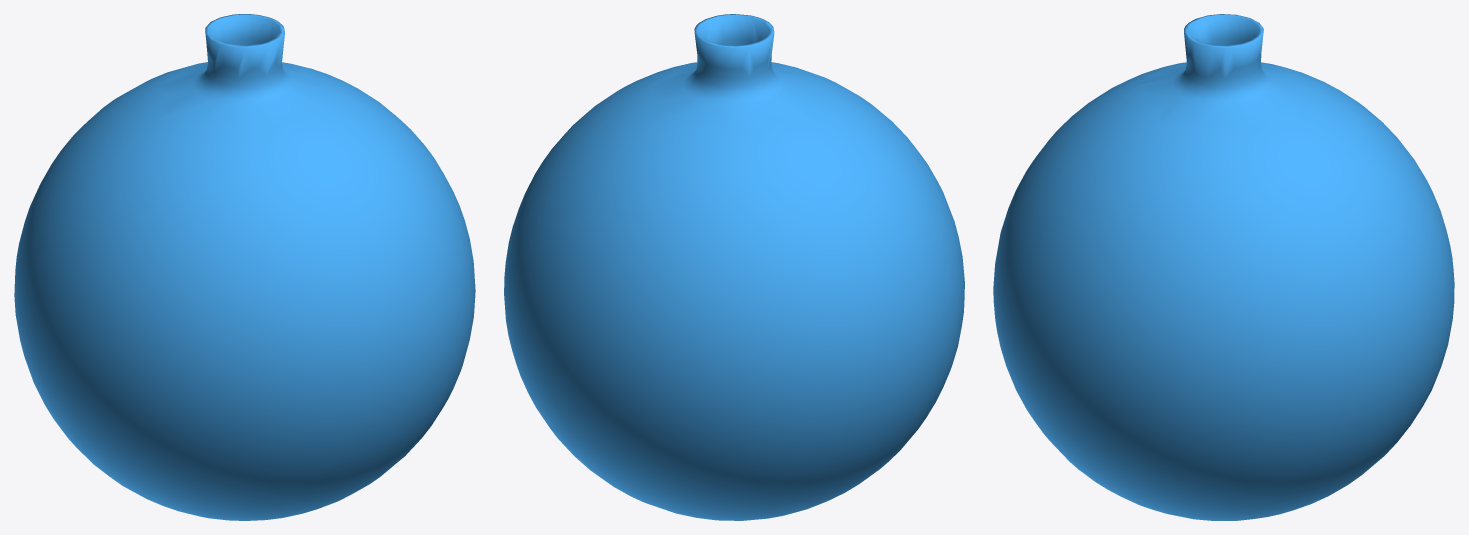
The model's file is christmas_tree_ball-Optimized.glb.
3 views of the same model, side by side, from view 1: azimuth 30°, elevation 25°; view 2: azimuth 150°, elevation 25°; view 3: azimuth 270°, elevation 25° (orthographic).
Parts seen in each view (by area): view 1: glas_2; view 2: glas_2; view 3: glas_2.
Boxes of the visible parts, box(x1,y1,x2,y2) form: glas_2: box(14, 14, 475, 520); glas_2: box(504, 14, 964, 520); glas_2: box(993, 14, 1454, 520).
Size of the model in its own units: 65114 by 73231 by 65158.
